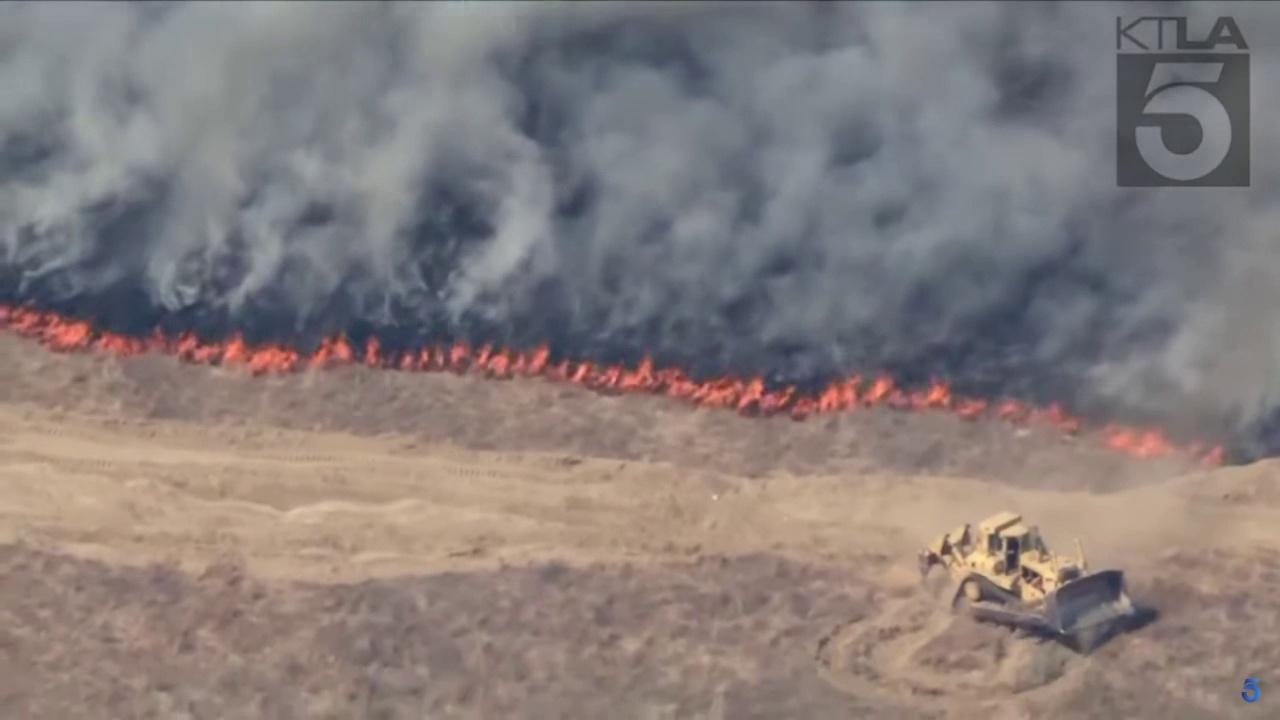fire: (0, 301, 1081, 435), (1100, 418, 1170, 459), (1200, 441, 1226, 472)
smoke: (0, 0, 1280, 456)
